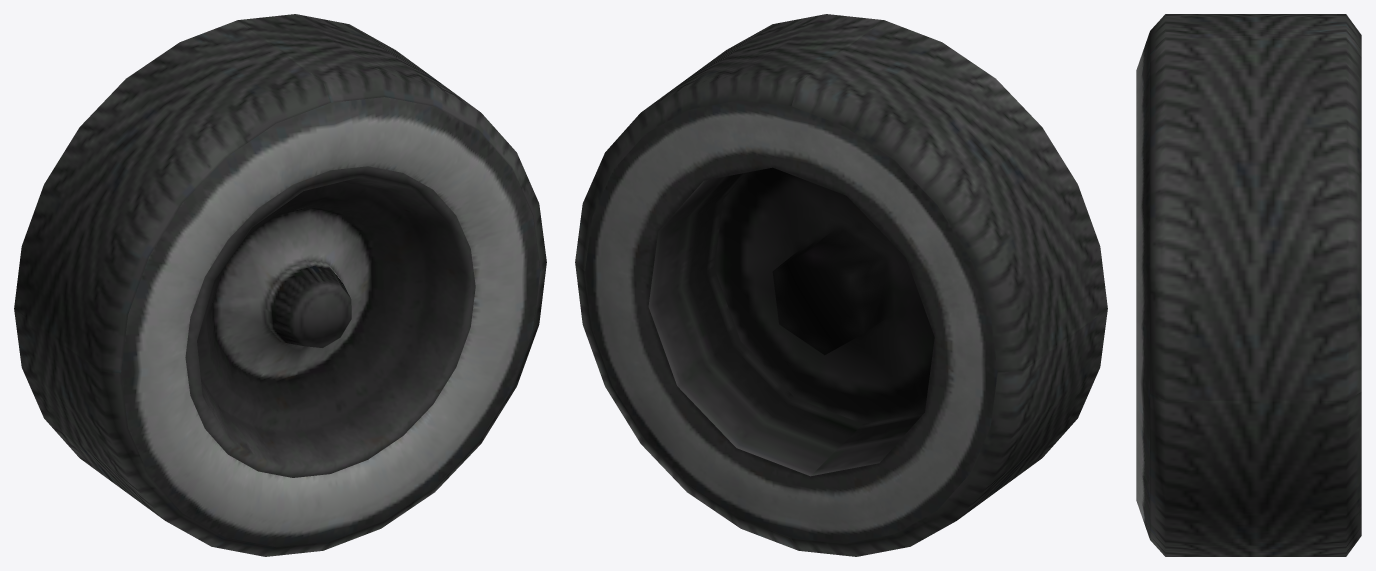
The model's file is V_A_ClassicMuscle_Wheels_8_SkeletalMesh3_SkeletalMesh_11.psk.glb.
3 renders of one model, left to right at view 1: azimuth 30°, elevation 25°; view 2: azimuth 150°, elevation 25°; view 3: azimuth 270°, elevation 25°, orthographic. The views are drawn at different scales.
Bounding box in the file's own units: 67.92 × 67.92 × 28.05.
Materials: 1 (1 with a texture image).
